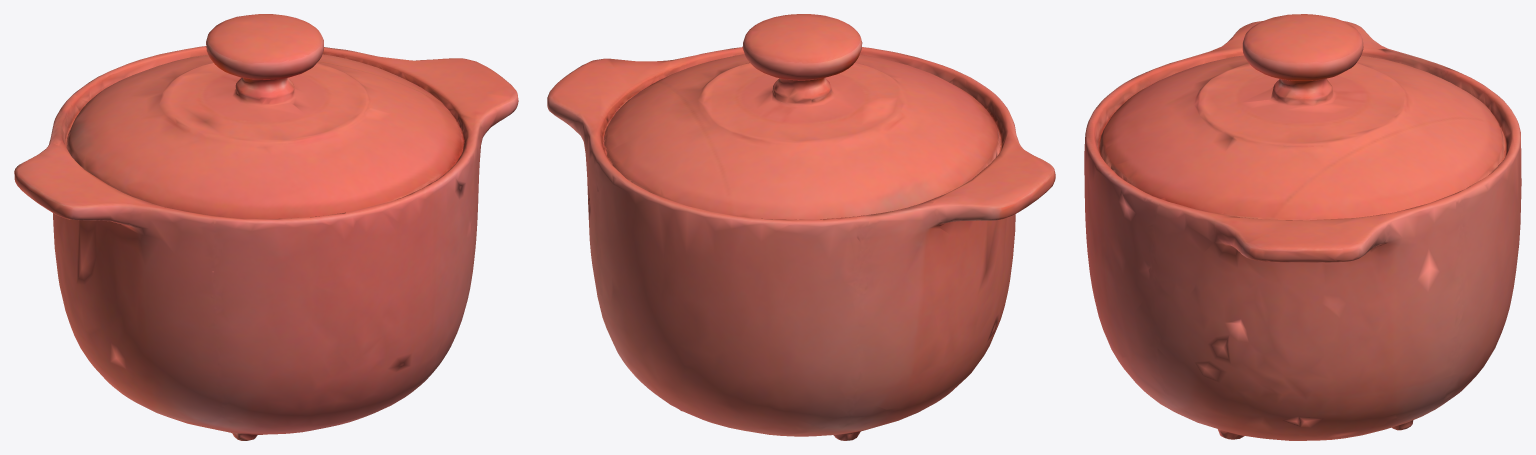
The model's file is noigom.glb.
3 views of the same model, side by side, from view 1: azimuth 30°, elevation 25°; view 2: azimuth 150°, elevation 25°; view 3: azimuth 270°, elevation 25° (orthographic).
Size of the model in its own units: 2 by 1.46 by 1.59.
Materials: 1 (1 with a texture image).
